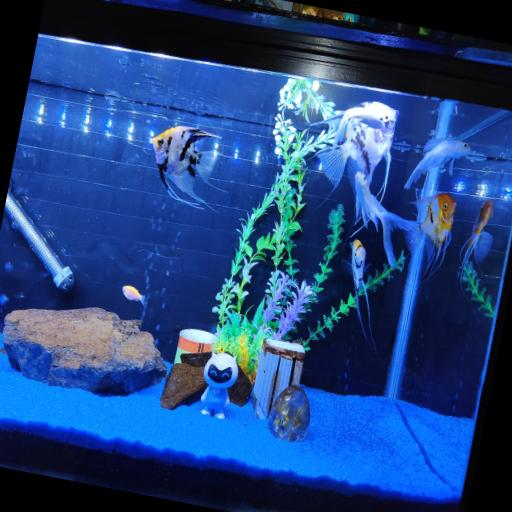Fish: (315, 102, 398, 197), (150, 126, 219, 207), (352, 172, 410, 265), (399, 193, 455, 282), (341, 240, 374, 352), (315, 101, 398, 144), (404, 138, 470, 189), (458, 200, 492, 282), (121, 286, 144, 306)
